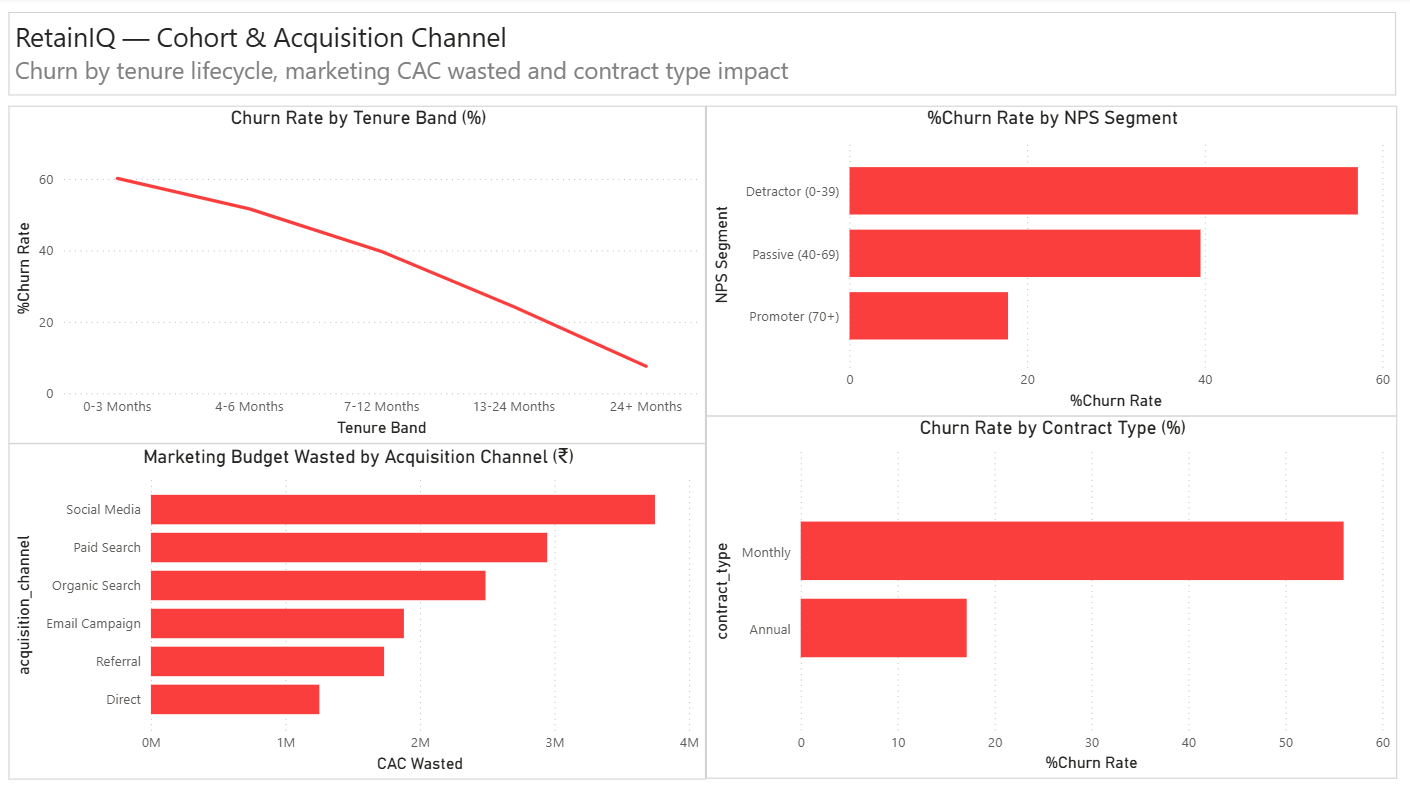

Layout of this report page (visuals, bound fields, positions):
{"tool":"powerbi","page":{"name":"Cohort + channel analysis","canvas":[1280,720],"ordinal":2},"visuals":[{"type":"lineChart","title":"Churn Rate by Tenure Band (%)","fields":{"Category":["customers.Tenure Band"],"Y":["customers.%Churn Rate"]},"box":[11.5,98.1,629,304.4],"z":0},{"type":"clusteredBarChart","title":"Marketing Budget Wasted by Acquisition Channel (₹)","fields":{"Category":["customers.acquisition_channel"],"Y":["customers.CAC Wasted"]},"box":[11.5,402.5,629,303],"z":1000},{"type":"clusteredBarChart","title":"Churn Rate by Contract Type (%)","fields":{"Category":["customers.contract_type"],"Y":["customers.%Churn Rate"]},"box":[640.6,378,623.3,327.5],"z":2000},{"type":"clusteredBarChart","fields":{"Category":["customers.NPS Segment"],"Y":["customers.%Churn Rate"]},"box":[640.6,98.1,623.3,279.9],"z":3000},{"type":"textbox","box":[11.5,13,1250.9,75],"z":3001}]}

Visuals, with their boxes in screenshot pixels (x1, y1, x2, y2), scaled from the page's 1280x720 canvas onto the 1410x791 screenshot:
"Churn Rate by Tenure Band (%)" lineChart: {"x1": 13, "y1": 108, "x2": 706, "y2": 442}
"Marketing Budget Wasted by Acquisition Channel (₹)" clusteredBarChart: {"x1": 13, "y1": 442, "x2": 706, "y2": 775}
"Churn Rate by Contract Type (%)" clusteredBarChart: {"x1": 706, "y1": 415, "x2": 1392, "y2": 775}
clusteredBarChart - customers.NPS Segment x customers.%Churn Rate: {"x1": 706, "y1": 108, "x2": 1392, "y2": 415}
textbox: {"x1": 13, "y1": 14, "x2": 1391, "y2": 97}
